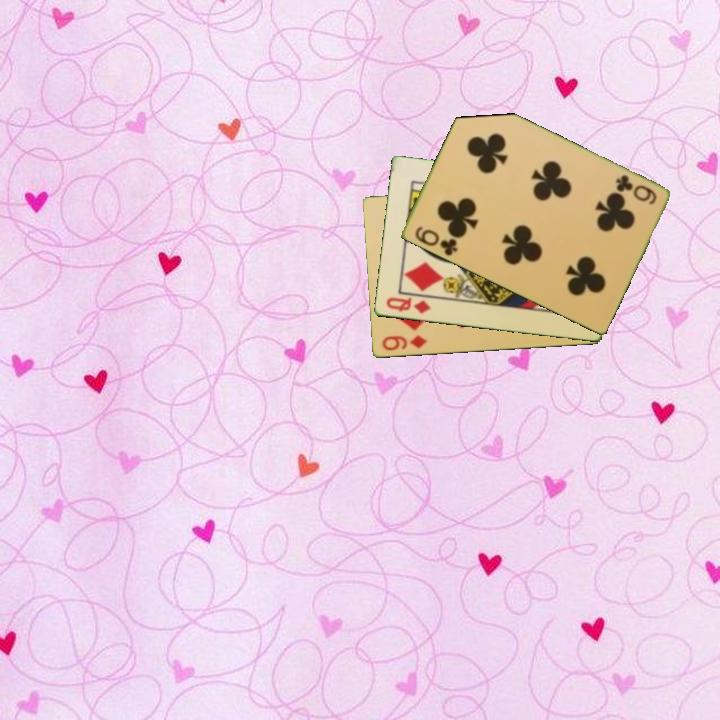6c: (411, 223, 460, 259), (612, 171, 659, 208)
9d: (378, 332, 430, 354)
Qd: (382, 294, 434, 317)
